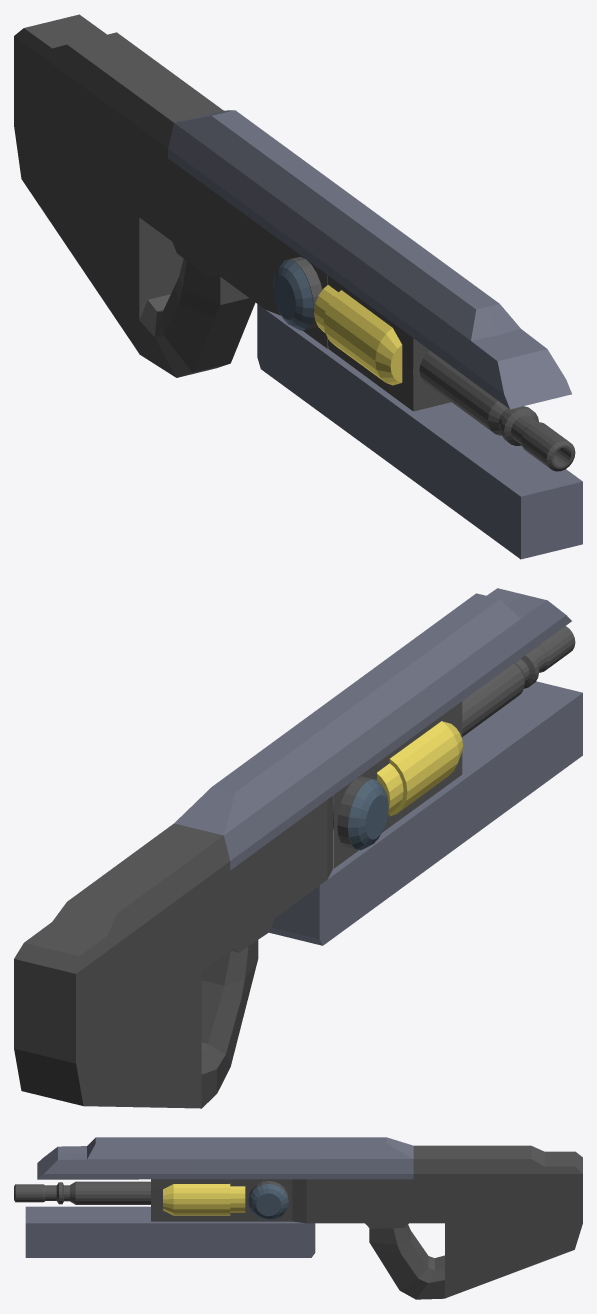
File: ALF_weapon_blockout_iter1.fbx
The picture shows the model from 3 angles, top to bottom: view 1: azimuth 30°, elevation 25°; view 2: azimuth 150°, elevation 25°; view 3: azimuth 270°, elevation 25°; orthographic projection. The views are drawn at different scales.
Parts seen in each view (by area): view 1: Plane.002, Cube.005, Cube.003, Plane.003, Cylinder.006, Cylinder.007, Cylinder.009, Cylinder.008; view 2: Plane.002, Cube.005, Cube.003, Cylinder.006, Plane.003, Cylinder.007, Cylinder.009, Cylinder.008; view 3: Plane.002, Cube.005, Cube.003, Cylinder.006, Plane.003, Cylinder.007, Cylinder.010, Cylinder.008, Vert.001.
Part boxes in pixels (<box>): Plane.002: <box>14,14,284,353</box>; Cube.005: <box>168,110,571,409</box>; Cube.003: <box>257,304,582,559</box>; Plane.003: <box>139,259,255,377</box>; Cylinder.006: <box>314,275,451,411</box>; Cylinder.007: <box>419,350,575,471</box>; Cylinder.009: <box>273,259,327,330</box>; Cylinder.008: <box>284,244,327,348</box>; Plane.002: <box>14,795,333,1108</box>; Cube.005: <box>174,588,571,870</box>; Cube.003: <box>269,681,582,945</box>; Cylinder.006: <box>377,701,463,832</box>; Plane.003: <box>200,940,258,1108</box>; Cylinder.007: <box>462,626,575,736</box>; Cylinder.009: <box>333,779,388,850</box>; Cylinder.008: <box>333,763,376,868</box>; Plane.002: <box>292,1145,582,1298</box>; Cube.005: <box>37,1137,413,1179</box>; Cube.003: <box>25,1206,315,1257</box>; Cylinder.006: <box>151,1179,245,1221</box>; Plane.003: <box>369,1224,444,1299</box>; Cylinder.007: <box>14,1181,150,1204</box>; Cylinder.010: <box>248,1183,288,1219</box>; Cylinder.008: <box>245,1179,292,1221</box>; Vert.001: <box>365,1223,408,1228</box>.
Bounding box in the file's own units: 20.44 × 59.33 × 199.
